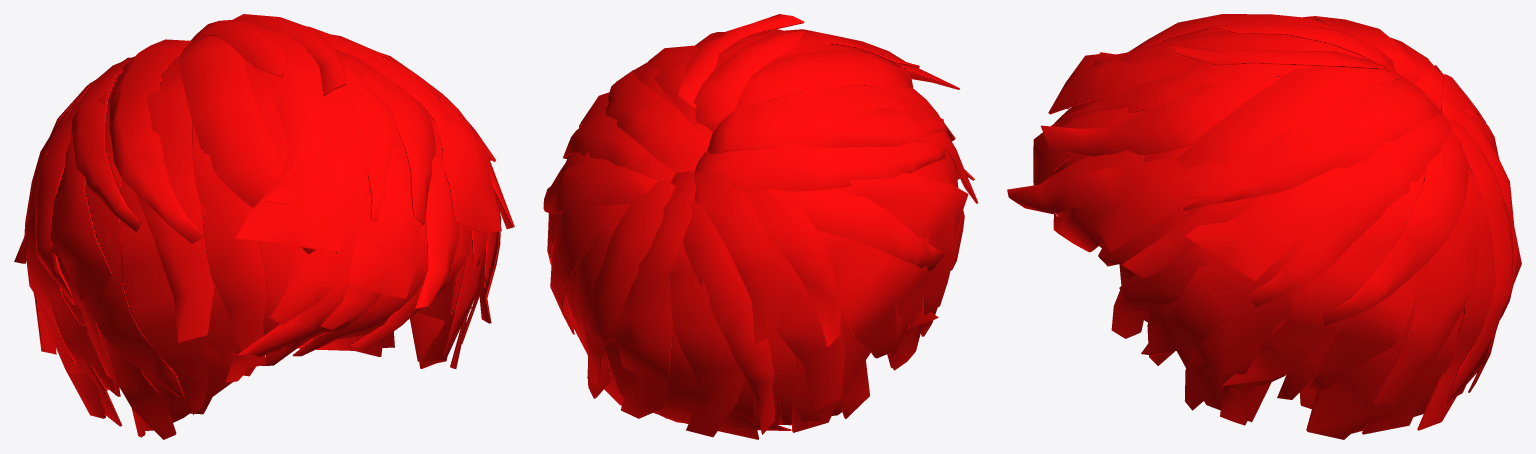
File: culturalibre_hair_06_F.glb
3 views of the same model, side by side, from view 1: azimuth 30°, elevation 25°; view 2: azimuth 150°, elevation 25°; view 3: azimuth 270°, elevation 25° (orthographic). The views are drawn at different scales.
Size of the model in its own units: 0.2243 by 0.1924 by 0.2519.
1 material, 1 textured.
